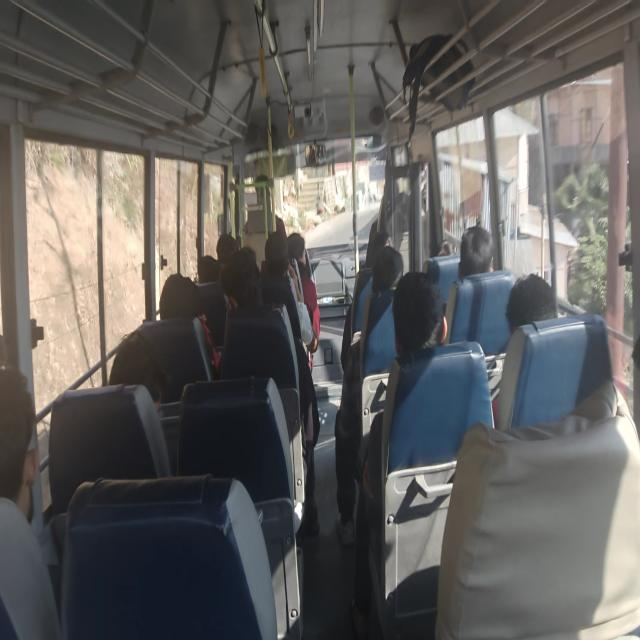person: (351, 270, 448, 636), (218, 246, 313, 535), (334, 244, 404, 546), (494, 272, 618, 428), (0, 364, 61, 638), (491, 272, 558, 426), (341, 244, 404, 373), (158, 272, 220, 373), (108, 330, 170, 412), (286, 232, 321, 369), (260, 230, 302, 340), (505, 272, 557, 336), (458, 225, 494, 278), (216, 232, 239, 264)
